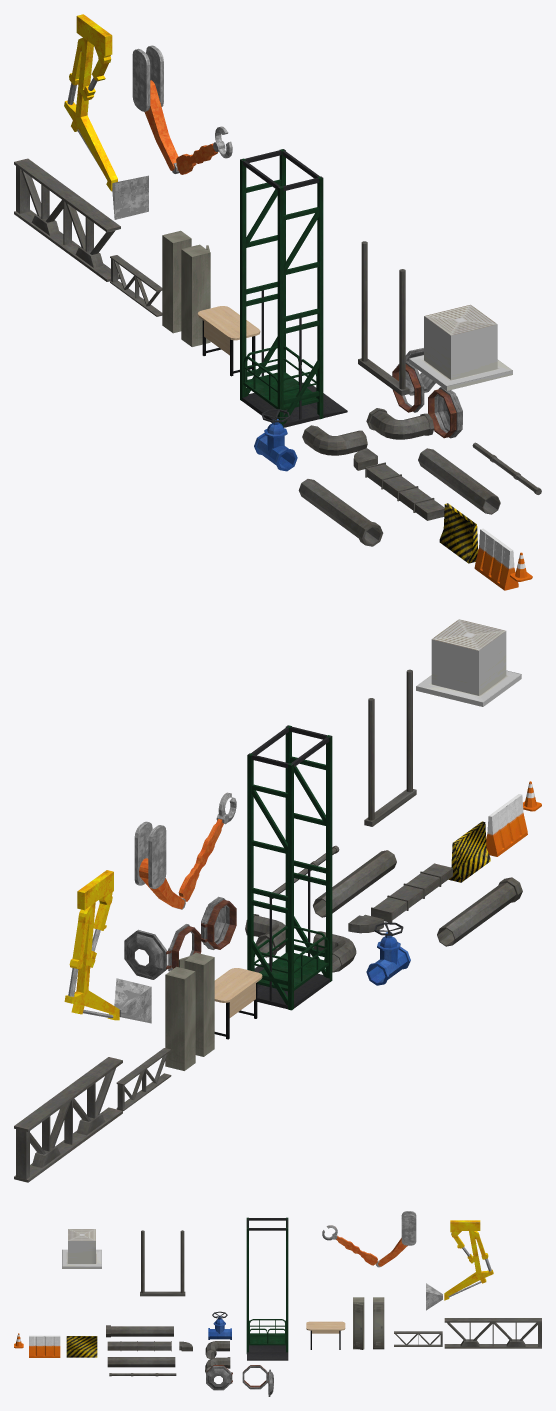
Rendered from Factory.fbx.
The picture shows the model from 3 angles, top to bottom: view 1: azimuth 30°, elevation 25°; view 2: azimuth 150°, elevation 25°; view 3: azimuth 270°, elevation 25°; orthographic projection. The views are drawn at different scales.
Parts seen in each view (by area): view 1: ThangVanChuyen, QuatHut, KhungTranNha, CanhTayMay2, CanhTayMay1, TuLocker_open, KhungDuongOng, TuLocker_Close, DuongOng1, DuongOng2, BanThuKy, OngDet_Thang (+8 smaller); view 2: ThangVanChuyen, QuatHut, KhungTranNha, CanhTayMay2, CanhTayMay1, TuLocker_Close, KhungDuongOng, CuaLoDot-Open, TuLocker_open, DuongOng1, DuongOng2, OngDet_Thang (+8 smaller); view 3: ThangVanChuyen, CanhTayMay2, KhungTranNha, QuatHut, CanhTayMay1, KhungDuongOng, DuongOng1, DuongOng2, Cube.049, Cube.036, OngDet_Thang, TuLocker_Close (+8 smaller).
Boxes of the visible parts, box(x1,y1,x2,y2) form: ThangVanChuyen: box(240, 149, 347, 427); QuatHut: box(409, 304, 512, 390); KhungTranNha: box(14, 158, 120, 281); CanhTayMay2: box(64, 14, 148, 219); CanhTayMay1: box(132, 45, 232, 174); TuLocker_open: box(181, 244, 210, 346); KhungDuongOng: box(358, 241, 409, 395); TuLocker_Close: box(162, 230, 191, 333); DuongOng1: box(298, 479, 383, 546); DuongOng2: box(418, 448, 500, 514); BanThuKy: box(197, 306, 260, 376); OngDet_Thang: box(365, 462, 444, 520); ThangVanChuyen: box(247, 725, 332, 1010); QuatHut: box(416, 619, 521, 706); KhungTranNha: box(14, 1057, 122, 1182); CanhTayMay2: box(64, 870, 151, 1023); CanhTayMay1: box(134, 792, 236, 909); TuLocker_Close: box(165, 966, 195, 1070); KhungDuongOng: box(364, 669, 416, 826); CuaLoDot-Open: box(124, 924, 201, 979); TuLocker_open: box(178, 952, 214, 1056); DuongOng1: box(437, 877, 522, 946); DuongOng2: box(313, 850, 396, 917); OngDet_Thang: box(371, 863, 452, 922); ThangVanChuyen: box(246, 1217, 288, 1360); CanhTayMay2: box(426, 1220, 493, 1310); KhungTranNha: box(444, 1318, 541, 1348); QuatHut: box(62, 1229, 101, 1268); CanhTayMay1: box(322, 1211, 416, 1267); KhungDuongOng: box(140, 1230, 185, 1296); DuongOng1: box(106, 1325, 173, 1337); DuongOng2: box(107, 1357, 175, 1367); Cube.049: box(29, 1335, 60, 1357); Cube.036: box(66, 1336, 97, 1357); OngDet_Thang: box(107, 1341, 171, 1351); TuLocker_Close: box(373, 1297, 384, 1349).
Bounding box in the file's own units: 9785 × 11149 × 36468.
Materials: 11 (11 with a texture image).
